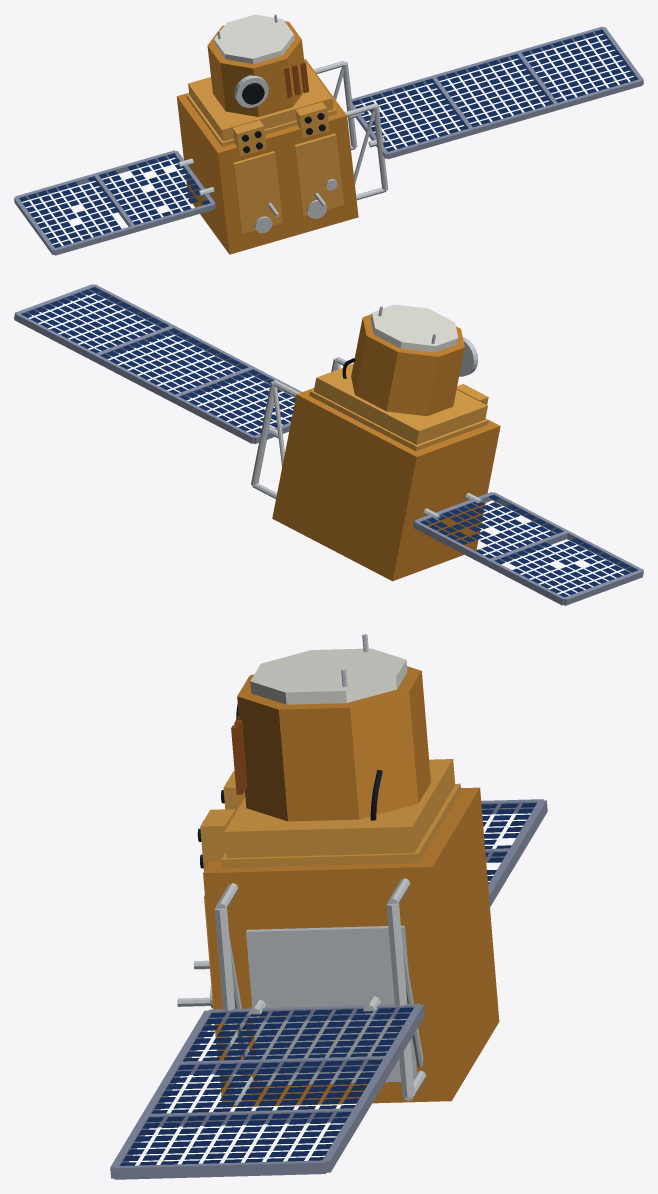
File: RESOURCESAT-1.glb
3 renders of one model, top to bottom at view 1: azimuth 30°, elevation 25°; view 2: azimuth 150°, elevation 25°; view 3: azimuth 270°, elevation 25°, orthographic. The views are drawn at different scales.
Parts seen in each view (by area): view 1: RESOURCESAT_1_SOLAR_CELLS, RESOURCESAT_1_MAIN_BUS, RESOURCESAT_1_SOLAR_FRAMES, RESOURCESAT_1_MLI_DETAILS, RESOURCESAT_1_MAIN_PAYLOAD_HEAD, RESOURCESAT_1_PAYLOAD_PLATFORM, RESOURCESAT_1_WHITE_TOP_PANEL, RESOURCESAT_1_SIDE_FRAME, RESOURCESAT_1_FRONT_INSTRUMENT_BLOCKS, RESOURCESAT_1_FRONT_FITTINGS, RESOURCESAT_1_PAYLOAD_VENTS, RESOURCESAT_1_OPTICAL_APERTURE_OUTER (+2 smaller); view 2: RESOURCESAT_1_MAIN_BUS, RESOURCESAT_1_SOLAR_CELLS, RESOURCESAT_1_SOLAR_FRAMES, RESOURCESAT_1_MAIN_PAYLOAD_HEAD, RESOURCESAT_1_PAYLOAD_PLATFORM, RESOURCESAT_1_WHITE_TOP_PANEL, RESOURCESAT_1_SIDE_FRAME, RESOURCESAT_1_MLI_DETAILS, RESOURCESAT_1_OPTICAL_APERTURE_OUTER; view 3: RESOURCESAT_1_MAIN_BUS, RESOURCESAT_1_SOLAR_CELLS, RESOURCESAT_1_MAIN_PAYLOAD_HEAD, RESOURCESAT_1_RIGHT_SILVER_PANEL, RESOURCESAT_1_SOLAR_FRAMES, RESOURCESAT_1_PAYLOAD_PLATFORM, RESOURCESAT_1_WHITE_TOP_PANEL, RESOURCESAT_1_SIDE_FRAME, RESOURCESAT_1_MLI_DETAILS, RESOURCESAT_1_FRONT_INSTRUMENT_BLOCKS, RESOURCESAT_1_PAYLOAD_VENTS.
Part boxes in pixels (x1,y1,x2,y2): RESOURCESAT_1_SOLAR_CELLS: [19, 29, 638, 247]; RESOURCESAT_1_MAIN_BUS: [176, 59, 358, 254]; RESOURCESAT_1_SOLAR_FRAMES: [14, 26, 643, 255]; RESOURCESAT_1_MLI_DETAILS: [186, 93, 343, 233]; RESOURCESAT_1_MAIN_PAYLOAD_HEAD: [207, 21, 304, 116]; RESOURCESAT_1_PAYLOAD_PLATFORM: [188, 60, 333, 141]; RESOURCESAT_1_WHITE_TOP_PANEL: [214, 14, 294, 63]; RESOURCESAT_1_SIDE_FRAME: [313, 61, 388, 200]; RESOURCESAT_1_FRONT_INSTRUMENT_BLOCKS: [232, 102, 329, 156]; RESOURCESAT_1_FRONT_FITTINGS: [254, 179, 337, 233]; RESOURCESAT_1_PAYLOAD_VENTS: [284, 61, 309, 97]; RESOURCESAT_1_OPTICAL_APERTURE_OUTER: [234, 75, 268, 107]; RESOURCESAT_1_MAIN_BUS: [272, 388, 500, 581]; RESOURCESAT_1_SOLAR_CELLS: [21, 287, 637, 597]; RESOURCESAT_1_SOLAR_FRAMES: [14, 284, 643, 605]; RESOURCESAT_1_MAIN_PAYLOAD_HEAD: [351, 314, 464, 416]; RESOURCESAT_1_PAYLOAD_PLATFORM: [313, 364, 487, 444]; RESOURCESAT_1_WHITE_TOP_PANEL: [370, 304, 458, 352]; RESOURCESAT_1_SIDE_FRAME: [251, 357, 352, 498]; RESOURCESAT_1_MLI_DETAILS: [309, 389, 488, 451]; RESOURCESAT_1_OPTICAL_APERTURE_OUTER: [459, 337, 477, 376]; RESOURCESAT_1_MAIN_BUS: [203, 787, 499, 1107]; RESOURCESAT_1_SOLAR_CELLS: [120, 803, 536, 1165]; RESOURCESAT_1_MAIN_PAYLOAD_HEAD: [237, 666, 430, 821]; RESOURCESAT_1_RIGHT_SILVER_PANEL: [246, 925, 416, 1085]; RESOURCESAT_1_SOLAR_FRAMES: [110, 799, 547, 1179]; RESOURCESAT_1_PAYLOAD_PLATFORM: [224, 759, 455, 858]; RESOURCESAT_1_WHITE_TOP_PANEL: [250, 648, 407, 704]; RESOURCESAT_1_SIDE_FRAME: [214, 878, 426, 1105]; RESOURCESAT_1_MLI_DETAILS: [204, 783, 461, 1057]; RESOURCESAT_1_FRONT_INSTRUMENT_BLOCKS: [200, 771, 245, 870]; RESOURCESAT_1_PAYLOAD_VENTS: [231, 716, 247, 794].
Size of the model in its own units: 6.99 by 2.55 by 2.4.
